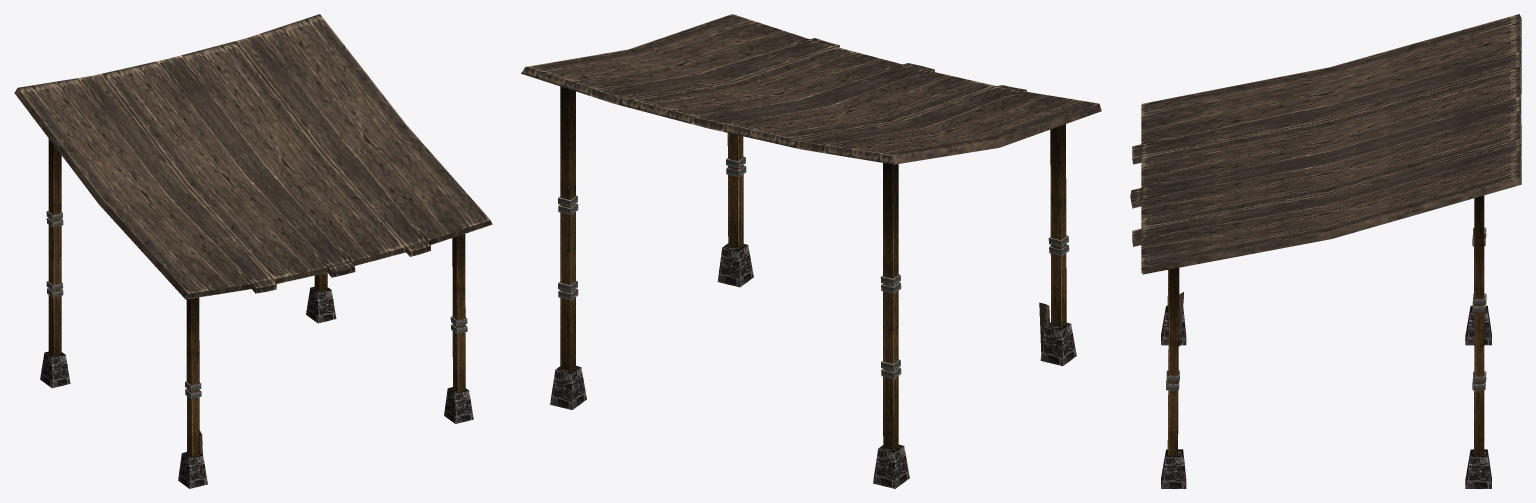
File: marketmini01.FBX
3 renders of one model, left to right at view 1: azimuth 30°, elevation 25°; view 2: azimuth 150°, elevation 25°; view 3: azimuth 270°, elevation 25°, orthographic. The views are drawn at different scales.
Visible parts, largest first — view 1: MARKET_A; view 2: MARKET_A; view 3: MARKET_A.
Part boxes in pixels (box(x1,y1,x2,y2)): MARKET_A: box(14, 14, 492, 488); MARKET_A: box(521, 14, 1101, 488); MARKET_A: box(1130, 14, 1521, 488).
Bounding box in the file's own units: 503 × 444 × 498.
